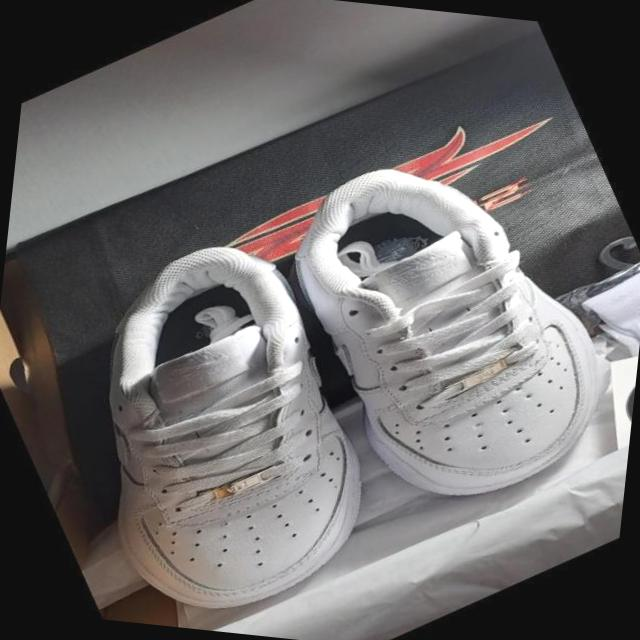nike_fake_airforce: (228, 77, 640, 560), (0, 191, 439, 640)
